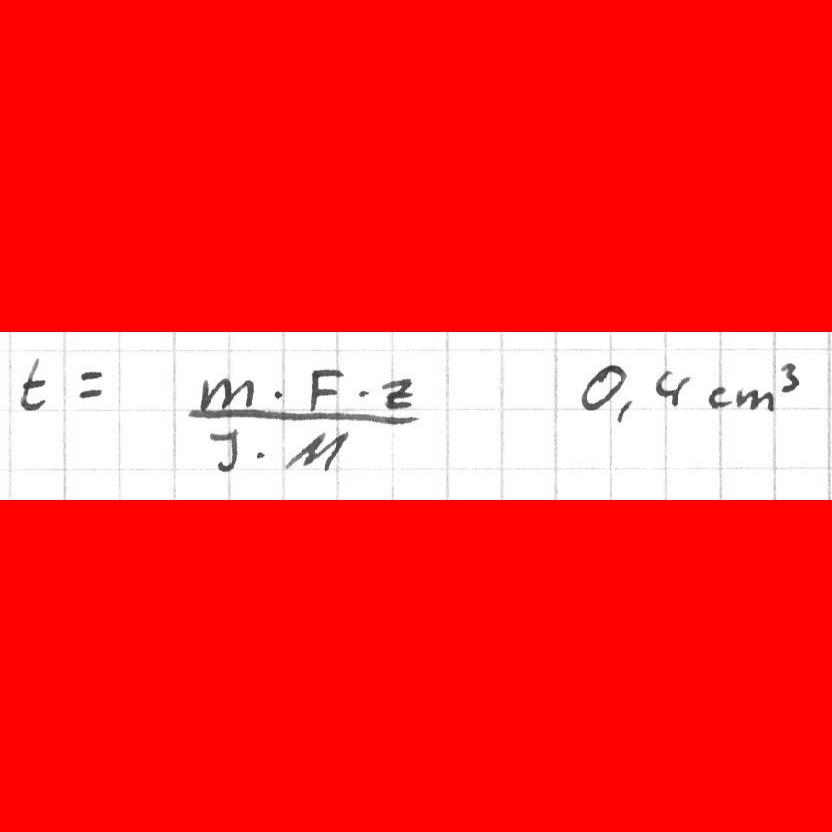Char: (181, 404, 418, 428), (282, 428, 351, 474), (578, 363, 625, 411), (197, 377, 256, 413), (17, 352, 50, 414), (652, 367, 694, 410), (306, 365, 343, 412), (210, 428, 241, 476), (379, 374, 414, 409), (76, 365, 106, 405), (736, 384, 774, 412), (778, 359, 801, 396), (704, 383, 729, 410), (614, 398, 634, 424), (352, 384, 373, 404), (269, 385, 287, 405), (252, 444, 269, 463)
